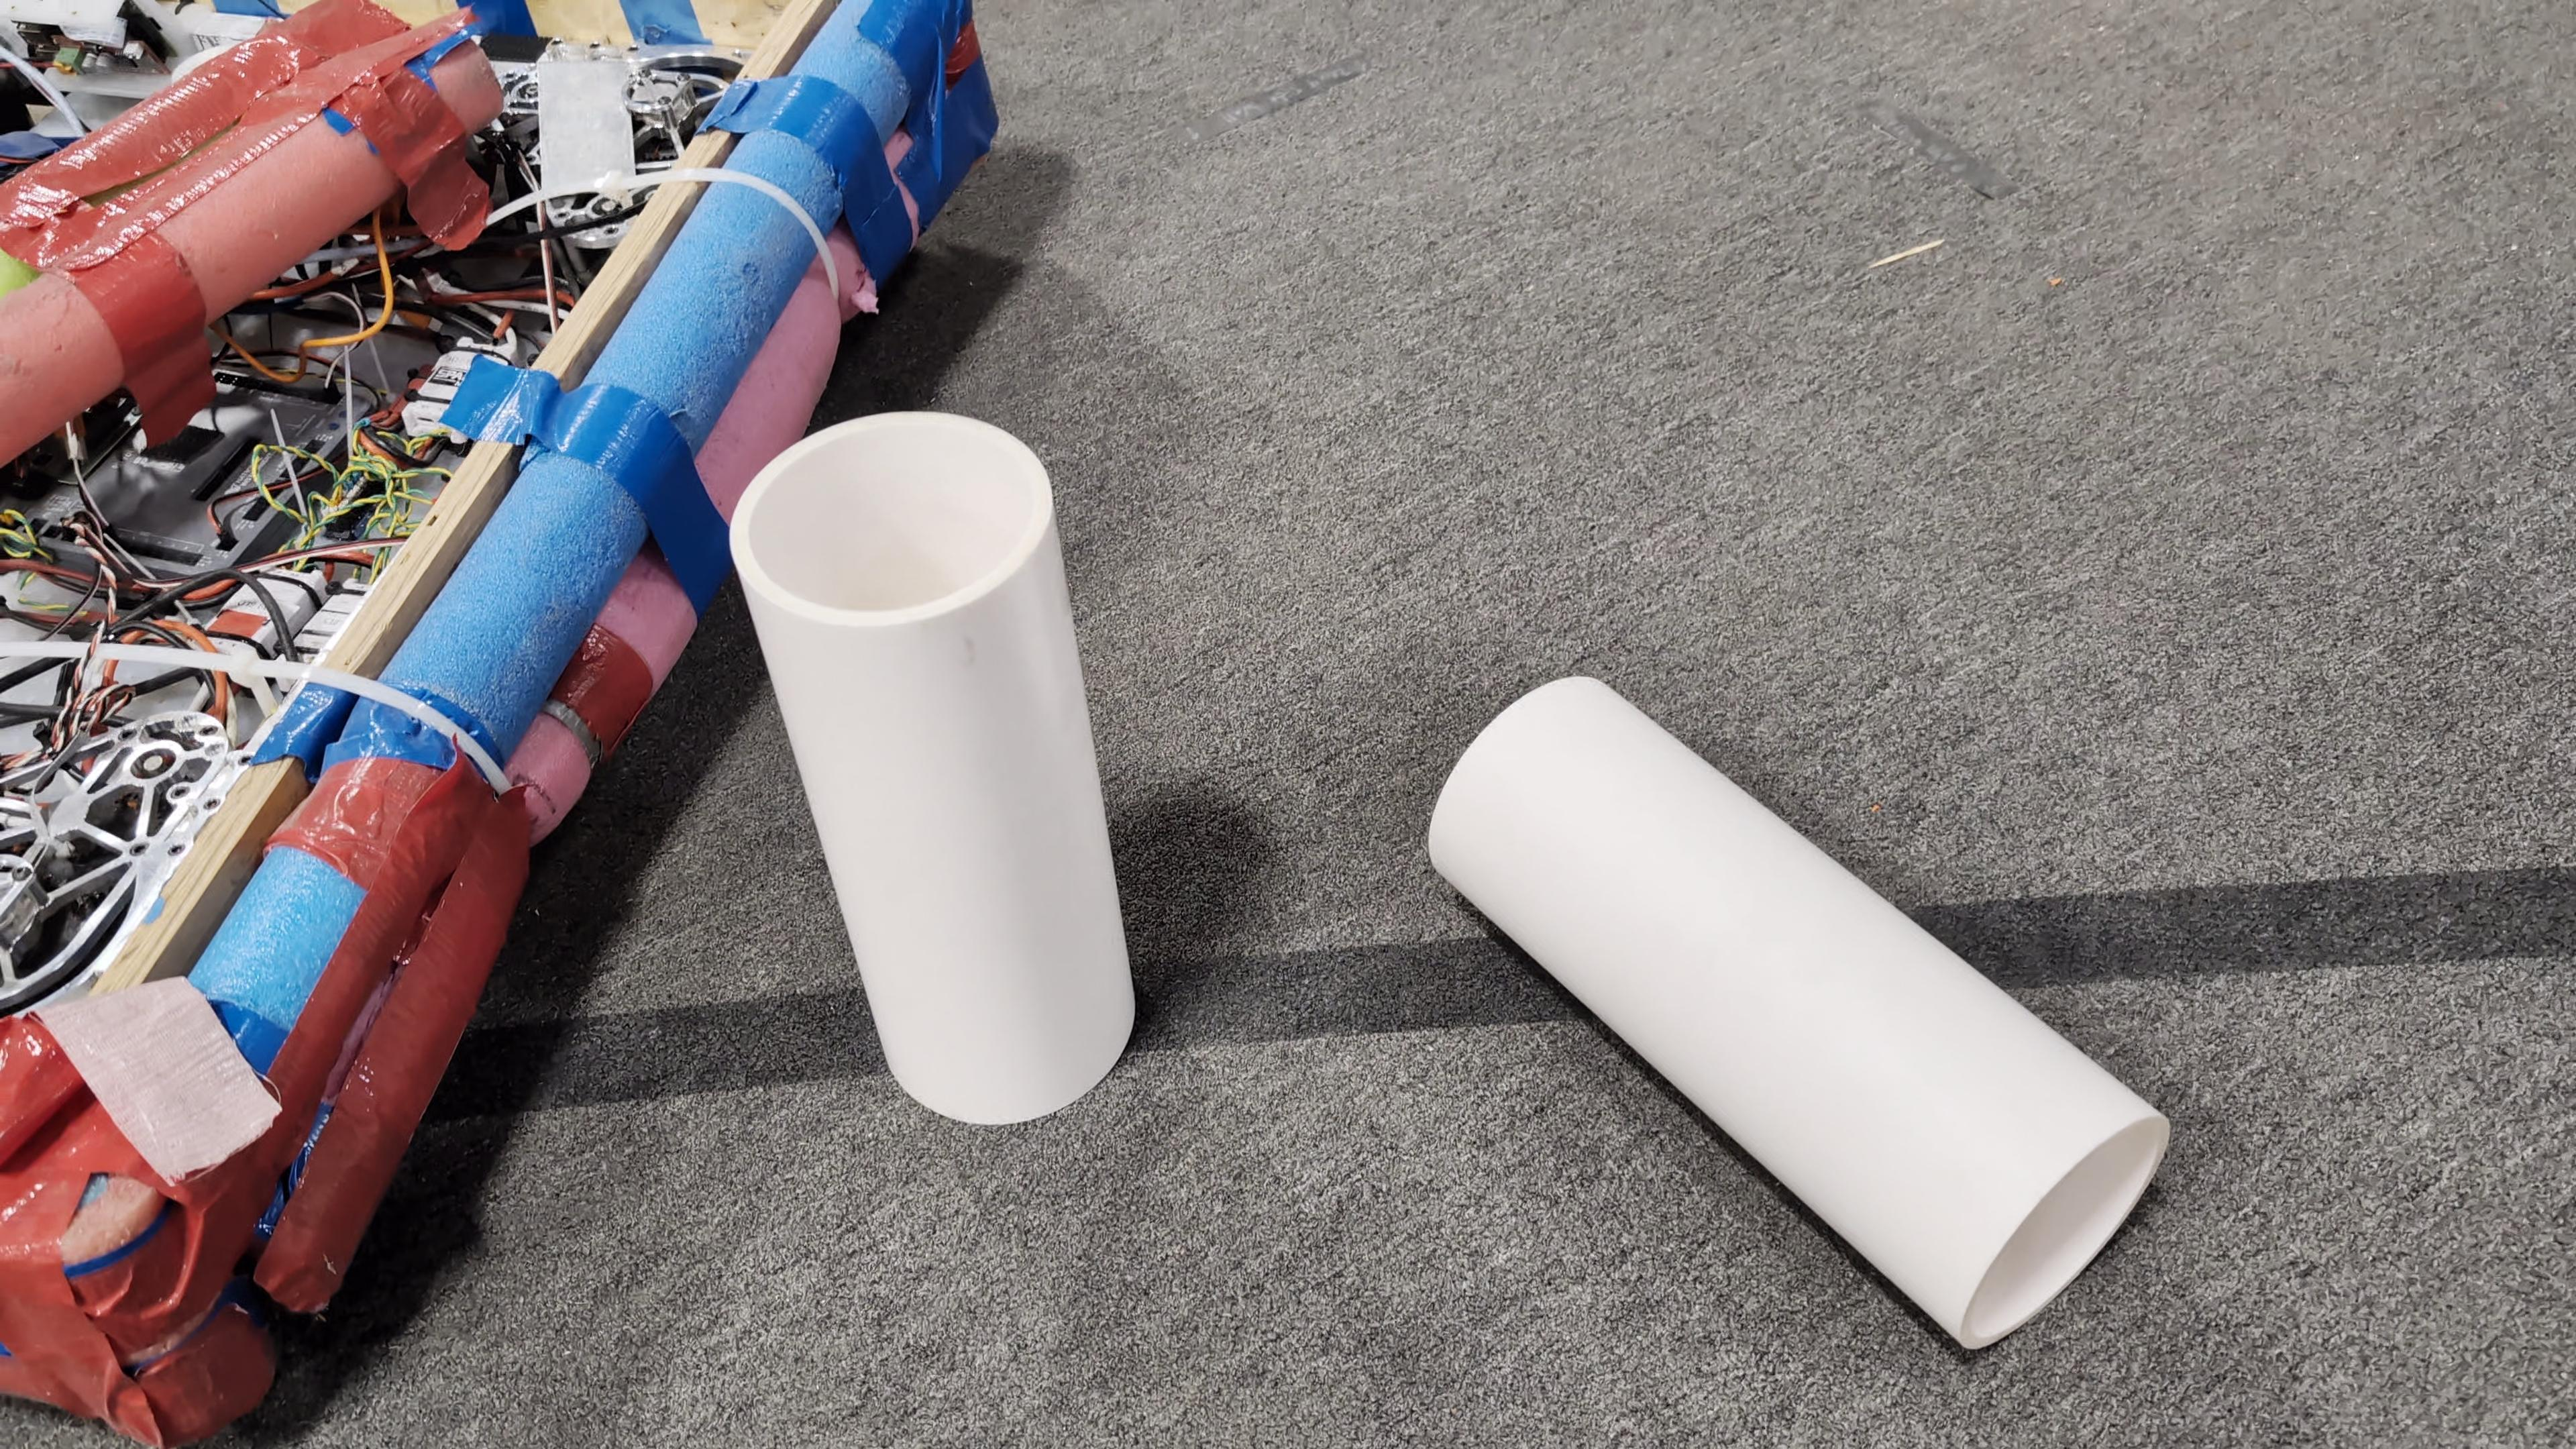coral: (1424, 667, 2176, 1352), (725, 403, 1141, 1122)
